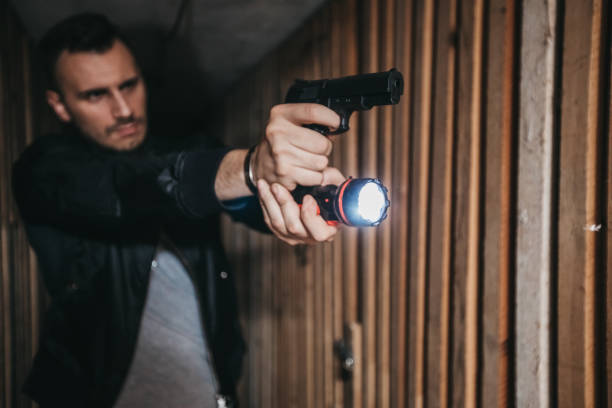gun: (282, 69, 406, 135)
